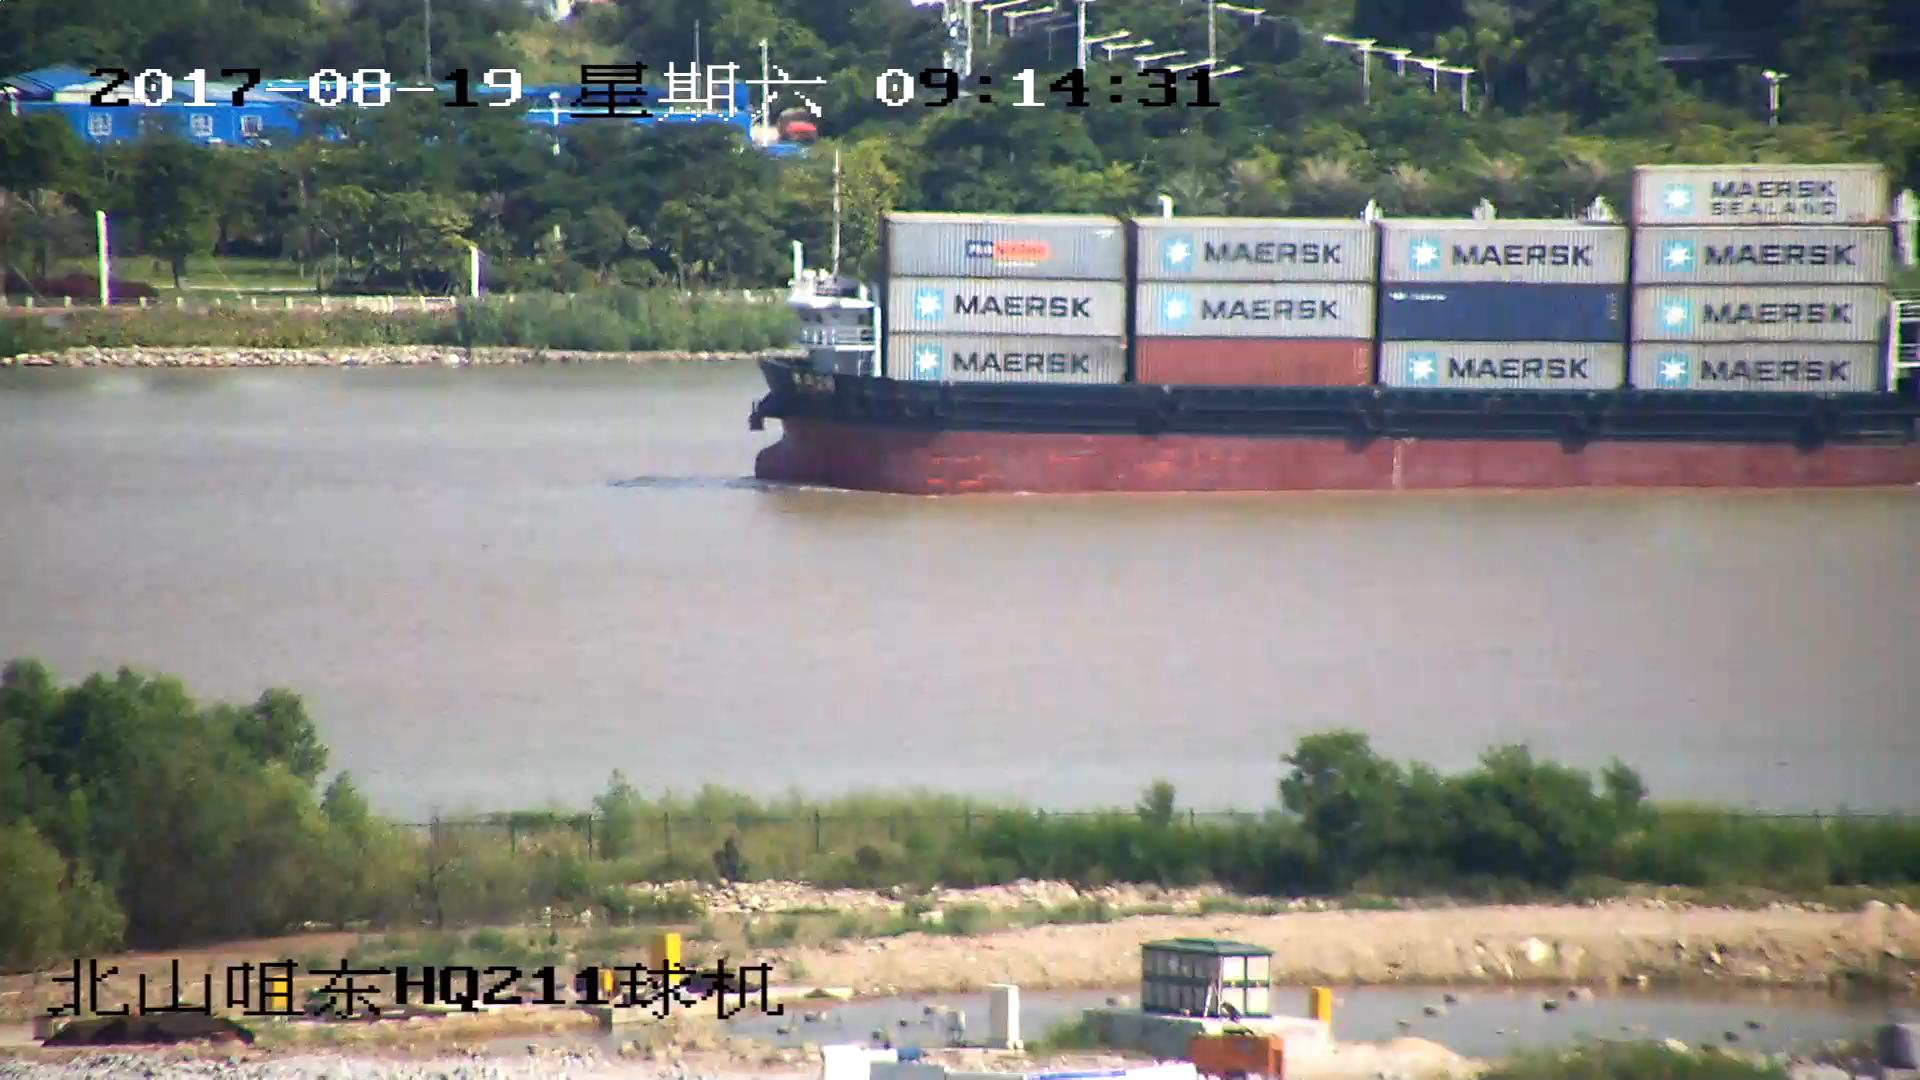container ship: (745, 154, 1920, 495)
